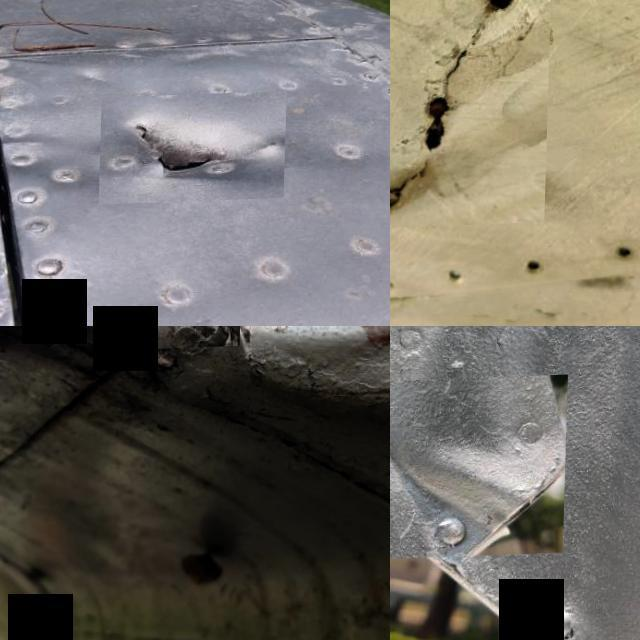Crack: (390, 0, 553, 229), (102, 94, 288, 206), (138, 326, 243, 351)
Dent: (390, 376, 569, 561)
